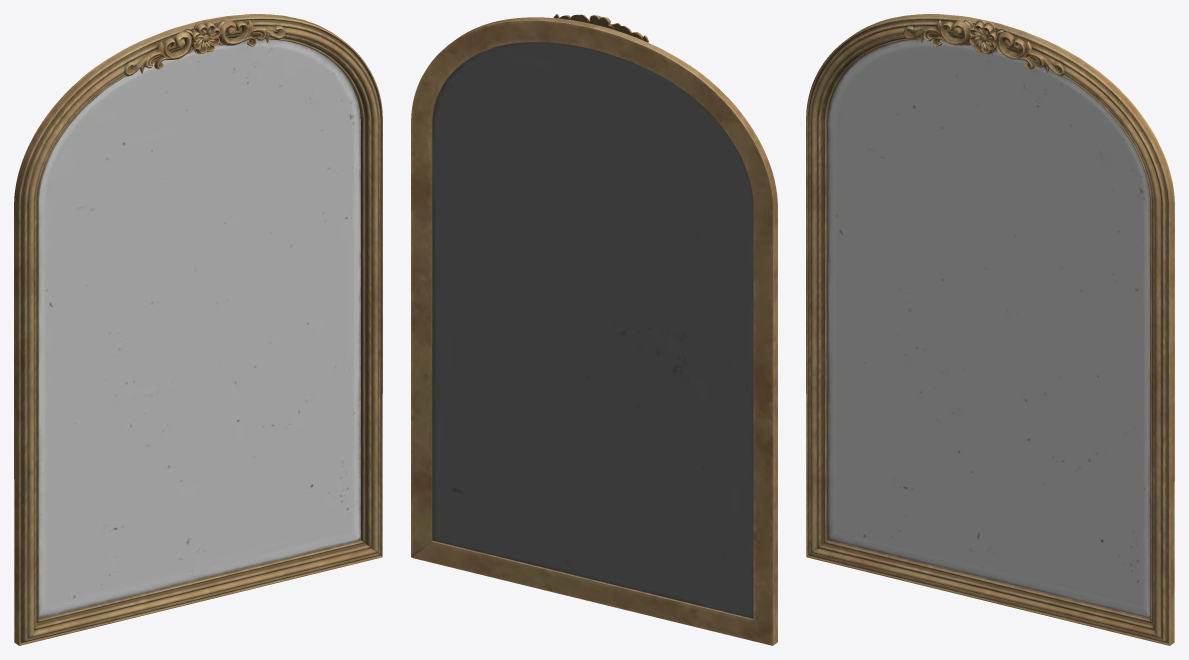
File: ornate_mirror_01_512.glb
The picture shows the model from 3 angles, left to right: view 1: azimuth 30°, elevation 25°; view 2: azimuth 150°, elevation 25°; view 3: azimuth 330°, elevation 25°; orthographic projection.
Visible parts, largest first — view 1: ornate_mirror_01; view 2: ornate_mirror_01; view 3: ornate_mirror_01.
Boxes of the visible parts, x1,y1,x2,y2 form: ornate_mirror_01: (14,14,382,645); ornate_mirror_01: (411,14,777,645); ornate_mirror_01: (806,14,1174,645).
Bounding box in the file's own units: 0.4865 × 0.7442 × 0.026.
1 material, 1 textured.
